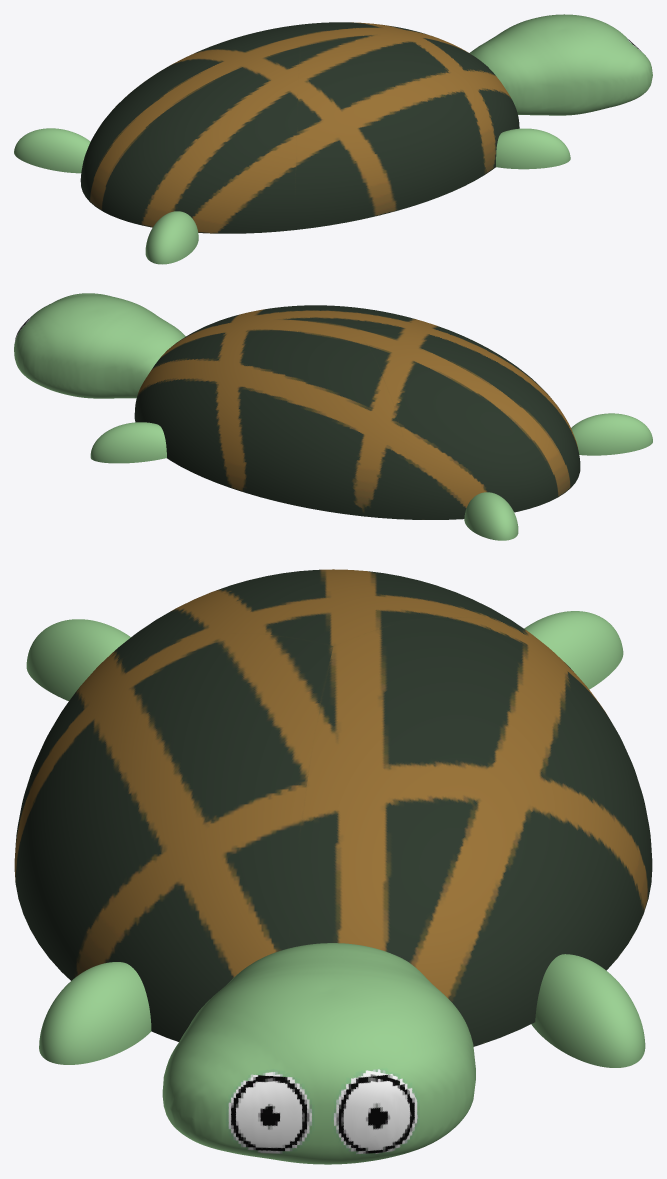
The model's file is Turtle.fbx.
3 renders of one model, top to bottom at view 1: azimuth 30°, elevation 25°; view 2: azimuth 150°, elevation 25°; view 3: azimuth 270°, elevation 25°, orthographic. The views are drawn at different scales.
Visible parts, largest first — view 1: node_id54, node_id56, node_id52, node_id53, node_id51; view 2: node_id54, node_id56, node_id51, node_id55, node_id52; view 3: node_id54, node_id56, node_id55, node_id53, node_id51, node_id52.
Part boxes in pixels (box(x1,y1,x2,y2)): node_id54: box(80, 22, 519, 233); node_id56: box(469, 14, 652, 115); node_id52: box(14, 128, 90, 173); node_id53: box(496, 128, 570, 169); node_id51: box(145, 211, 198, 264); node_id54: box(134, 305, 580, 519); node_id56: box(14, 293, 185, 398); node_id51: box(571, 413, 652, 455); node_id55: box(90, 422, 166, 463); node_id52: box(464, 492, 518, 540); node_id54: box(14, 569, 652, 1046); node_id56: box(162, 943, 475, 1164); node_id55: box(531, 954, 645, 1067); node_id53: box(39, 962, 151, 1064); node_id51: box(26, 619, 130, 701); node_id52: box(524, 611, 623, 689).
Size of the model in its own units: 0.2495 by 0.0517 by 0.1267.
Materials: 6 (6 with a texture image).
